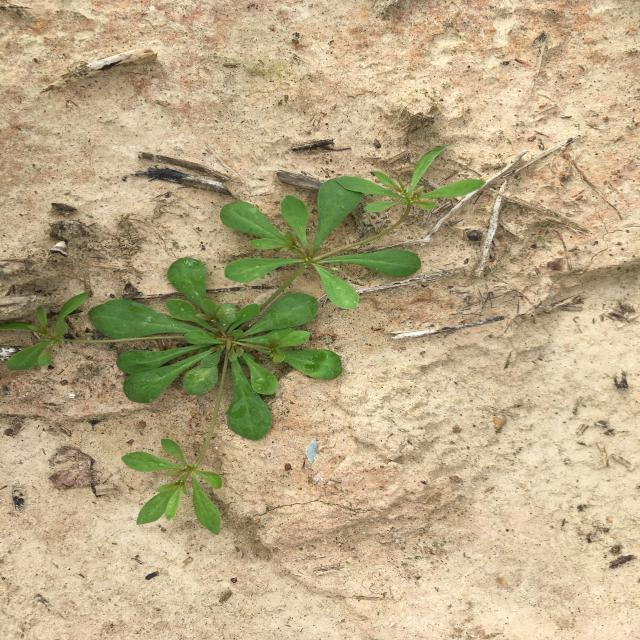Carpetweed: (0, 143, 486, 535)
